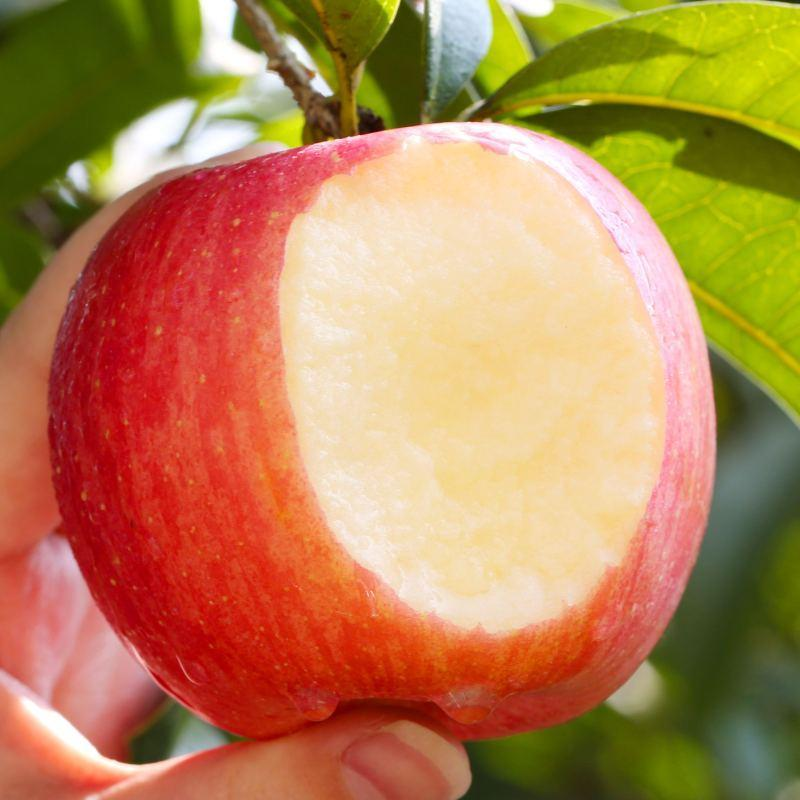apple: (53, 122, 721, 735)
